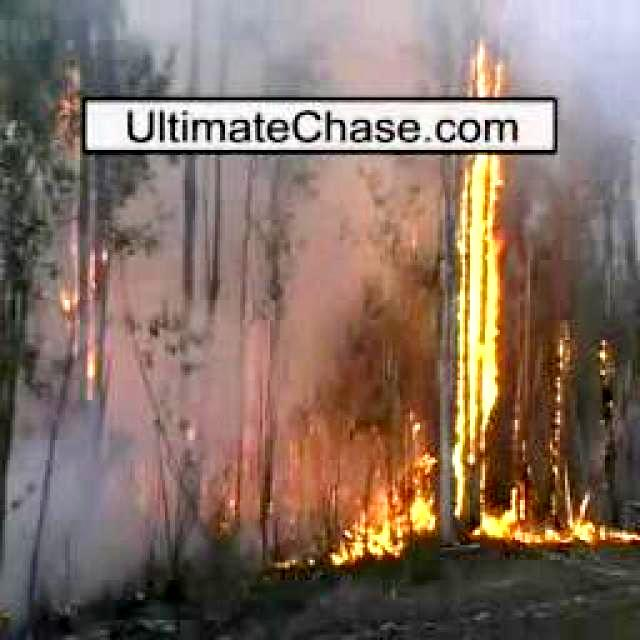fire: (458, 26, 506, 530), (334, 506, 434, 572), (518, 498, 634, 550)
